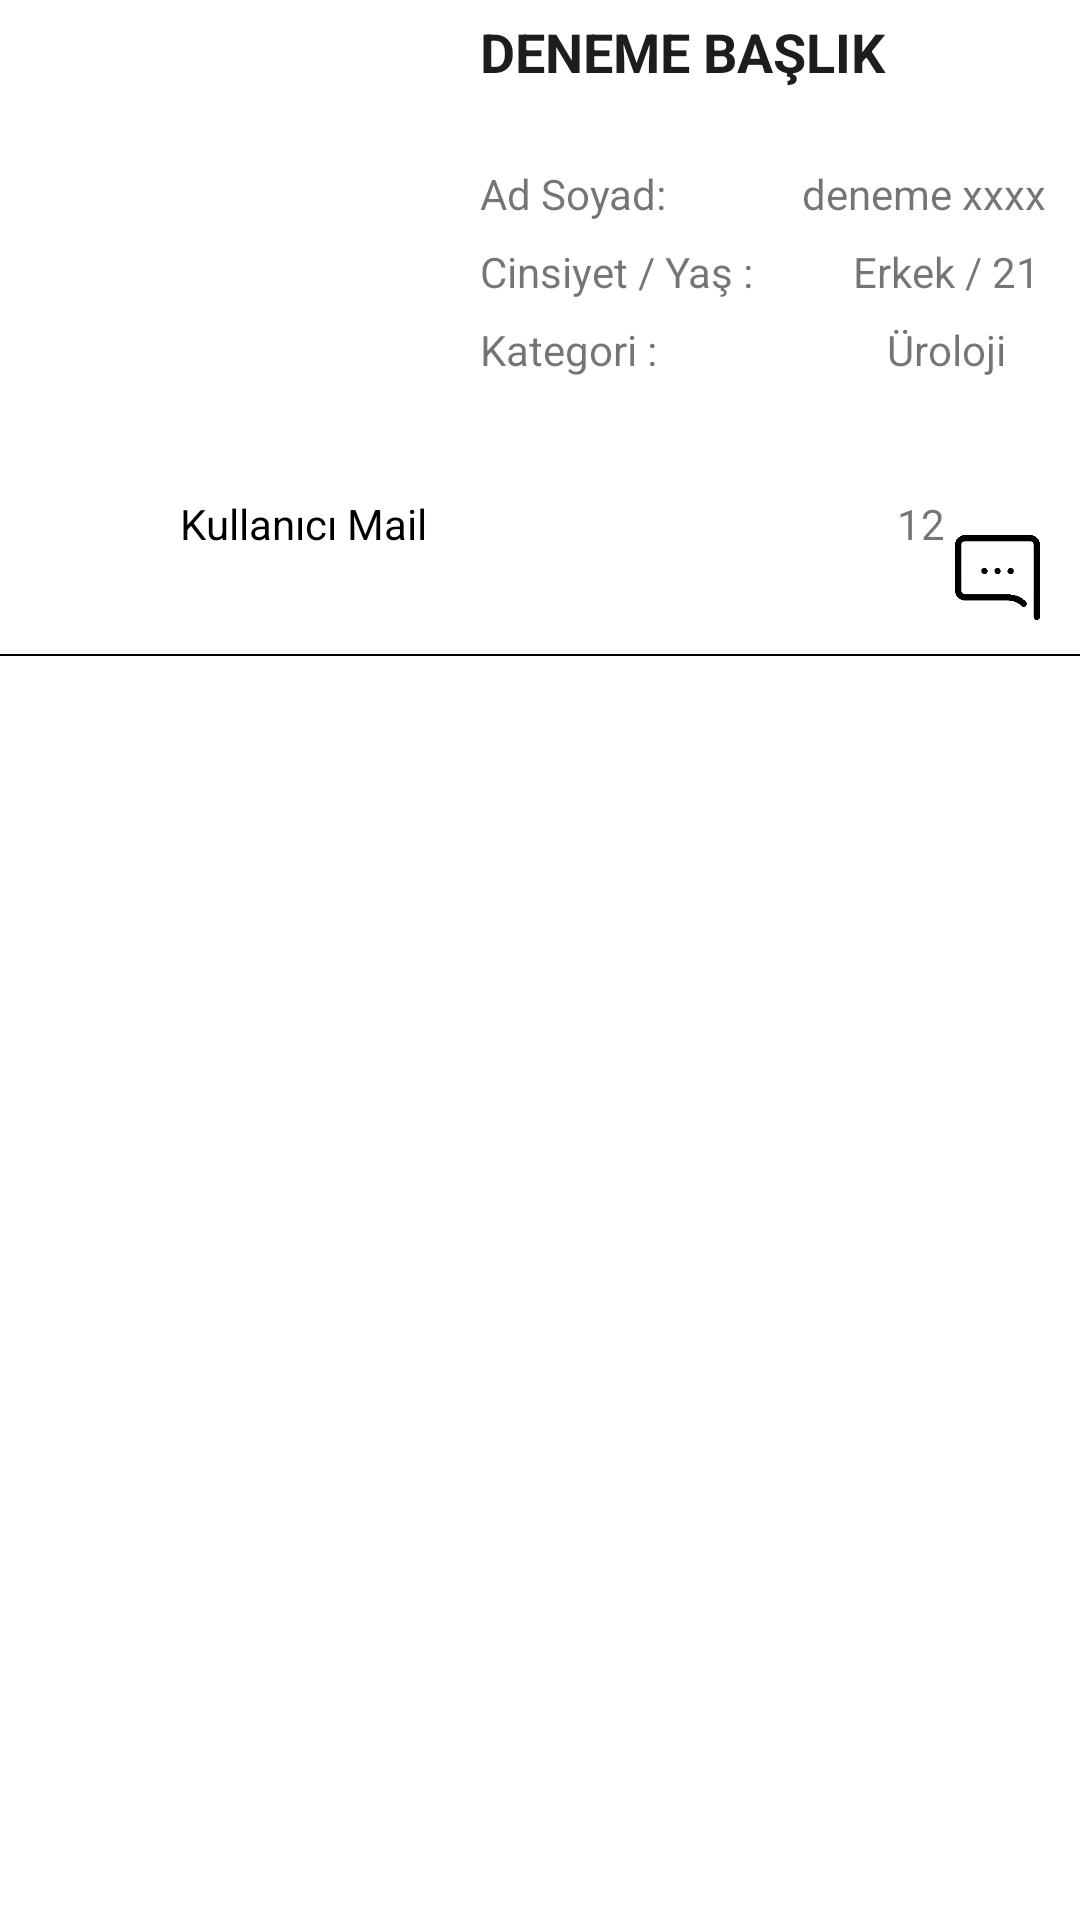

Where icons sit on this 1080 x 1920 app screen, as detection(x1, y1, x2, y2):
yorumlar: detection(955, 535, 1040, 620)
